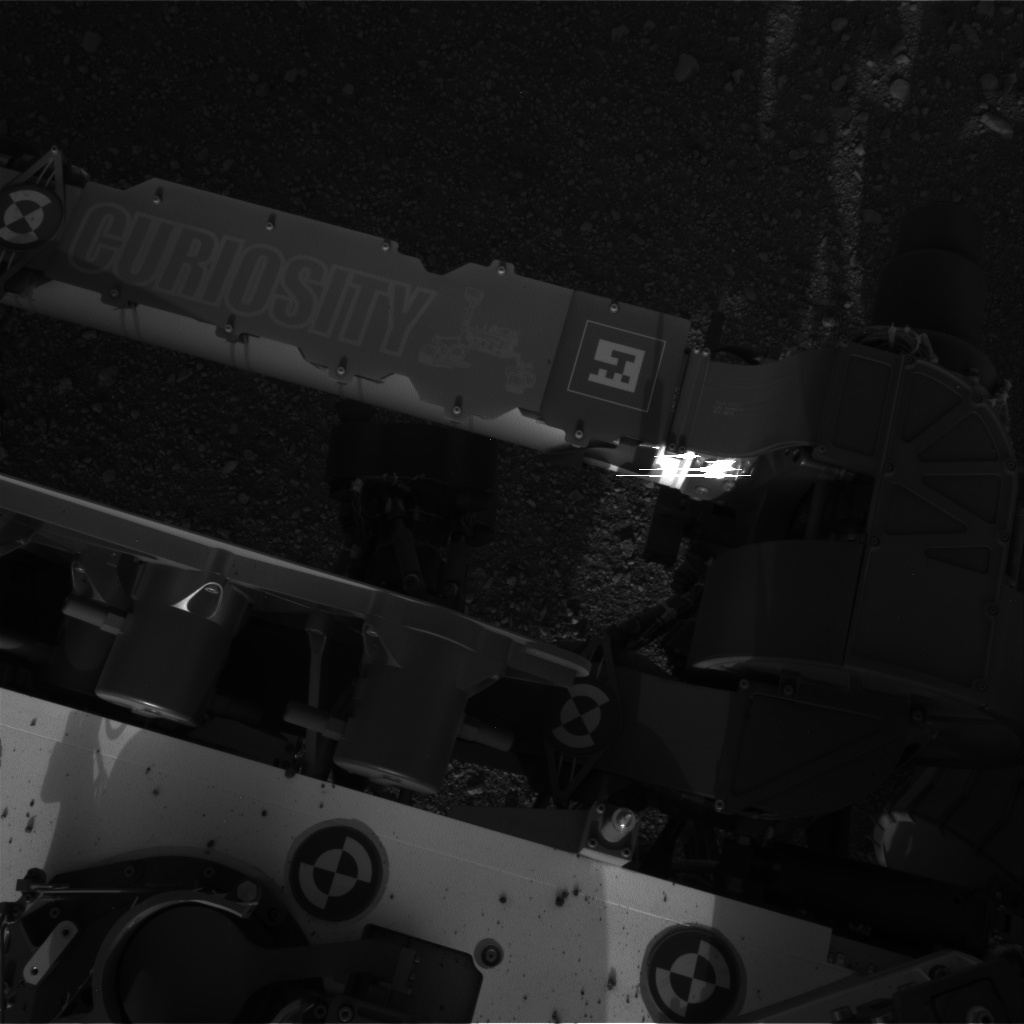soil: (5, 6, 1020, 291), (27, 370, 295, 515), (513, 501, 624, 599)
